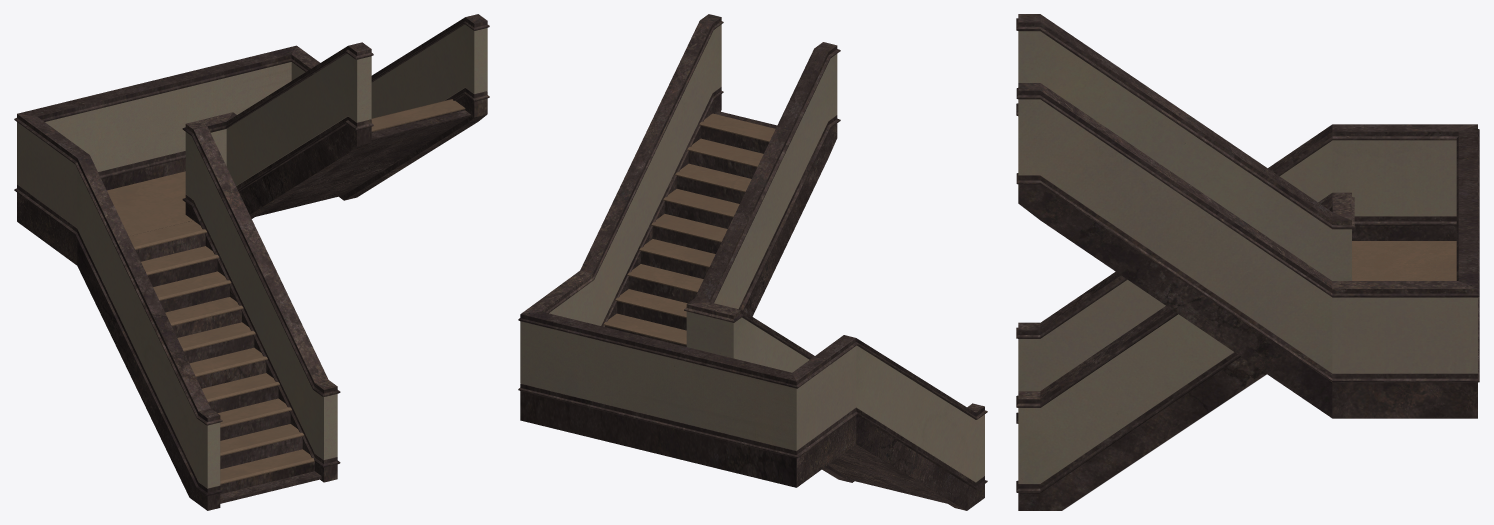
Rendered from SK2 STAIR INT.fbx.
The picture shows the model from 3 angles, left to right: view 1: azimuth 30°, elevation 25°; view 2: azimuth 150°, elevation 25°; view 3: azimuth 270°, elevation 25°; orthographic projection. The views are drawn at different scales.
Parts seen in each view (by area): view 1: SK2 STAIR INT; view 2: SK2 STAIR INT; view 3: SK2 STAIR INT.
Boxes of the visible parts, <box> form: SK2 STAIR INT: <box>14,14,489,510</box>; SK2 STAIR INT: <box>518,14,987,510</box>; SK2 STAIR INT: <box>1016,14,1479,510</box>.
Bounding box in the file's own units: 360 × 513 × 424.
